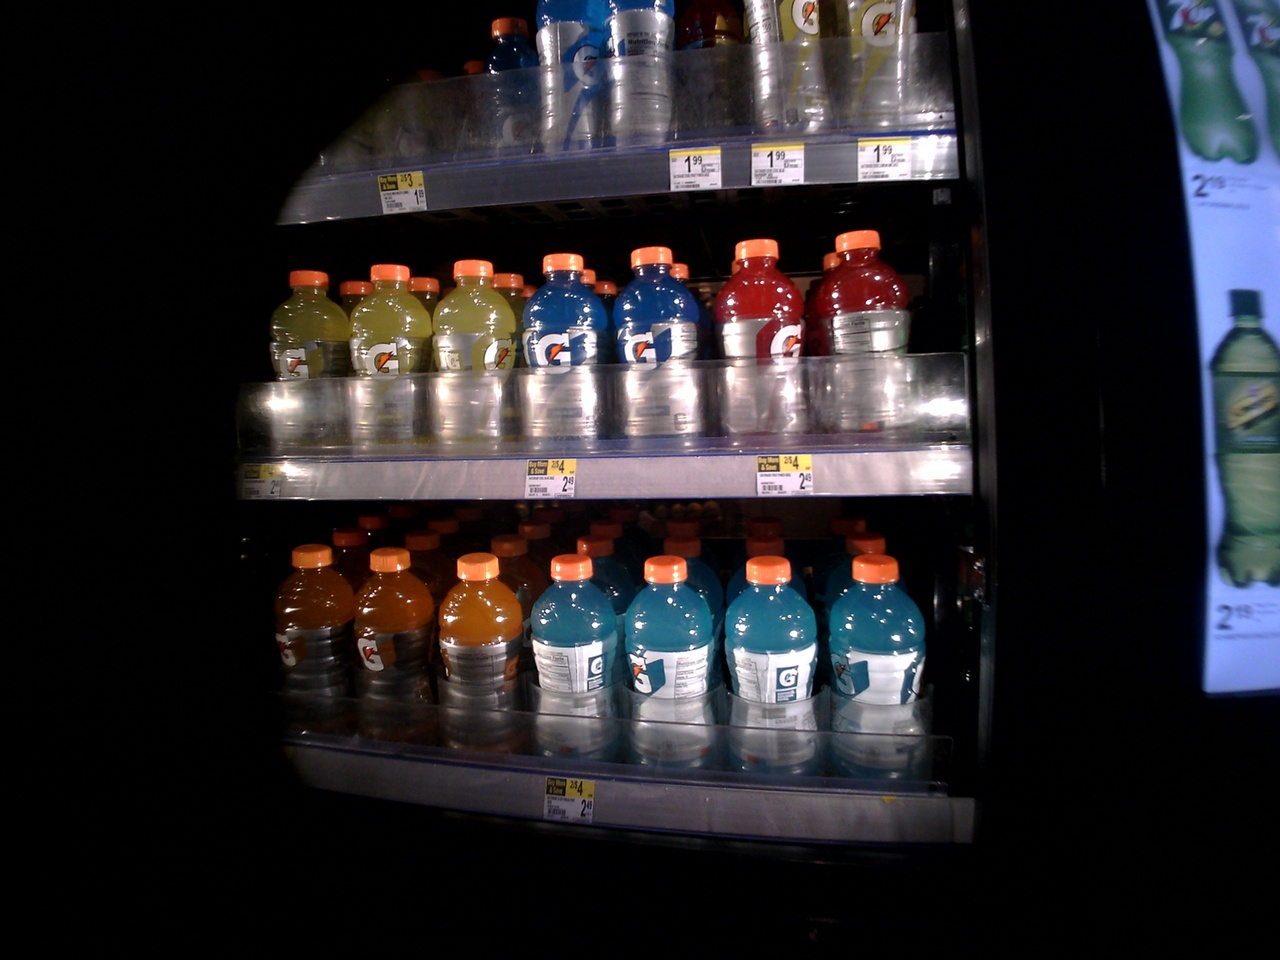shelf: (232, 495, 964, 837), (221, 226, 968, 490), (257, 0, 932, 181)
